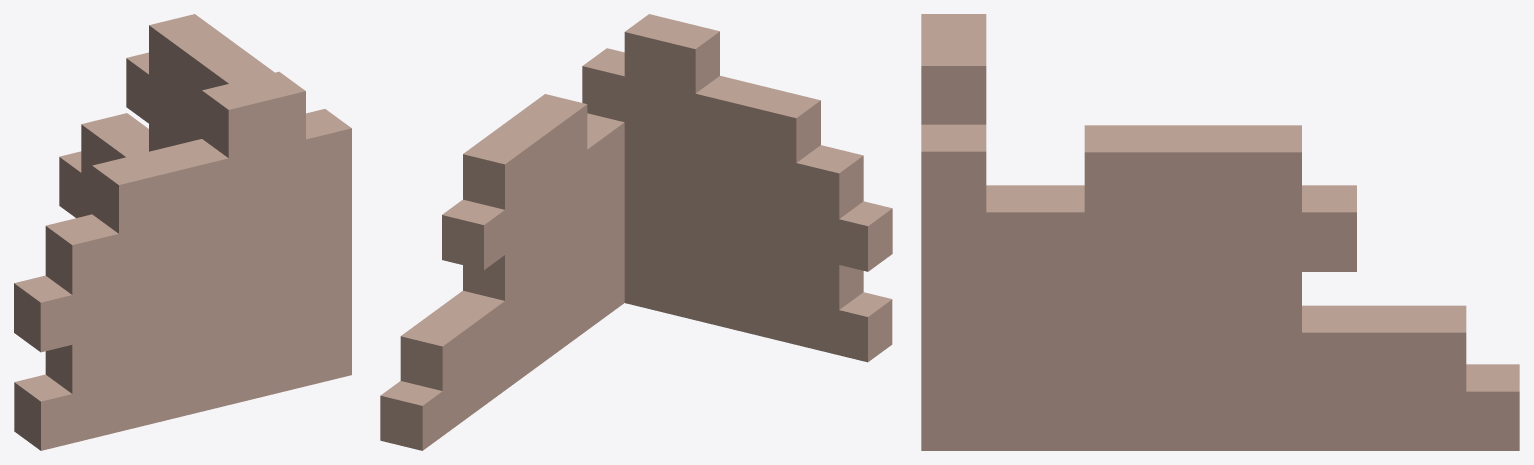
Rendered from sciana_3.2obj.obj.
3 renders of one model, left to right at view 1: azimuth 30°, elevation 25°; view 2: azimuth 150°, elevation 25°; view 3: azimuth 270°, elevation 25°, orthographic. The views are drawn at different scales.
Visible parts, largest first — view 1: Vert.005; view 2: Vert.005; view 3: Vert.005.
Boxes of the visible parts, box(x1,y1,x2,y2) form: Vert.005: box(14, 14, 351, 450); Vert.005: box(380, 14, 892, 450); Vert.005: box(921, 14, 1519, 450).
Size of the model in its own units: 14.08 by 12.77 by 19.34.
